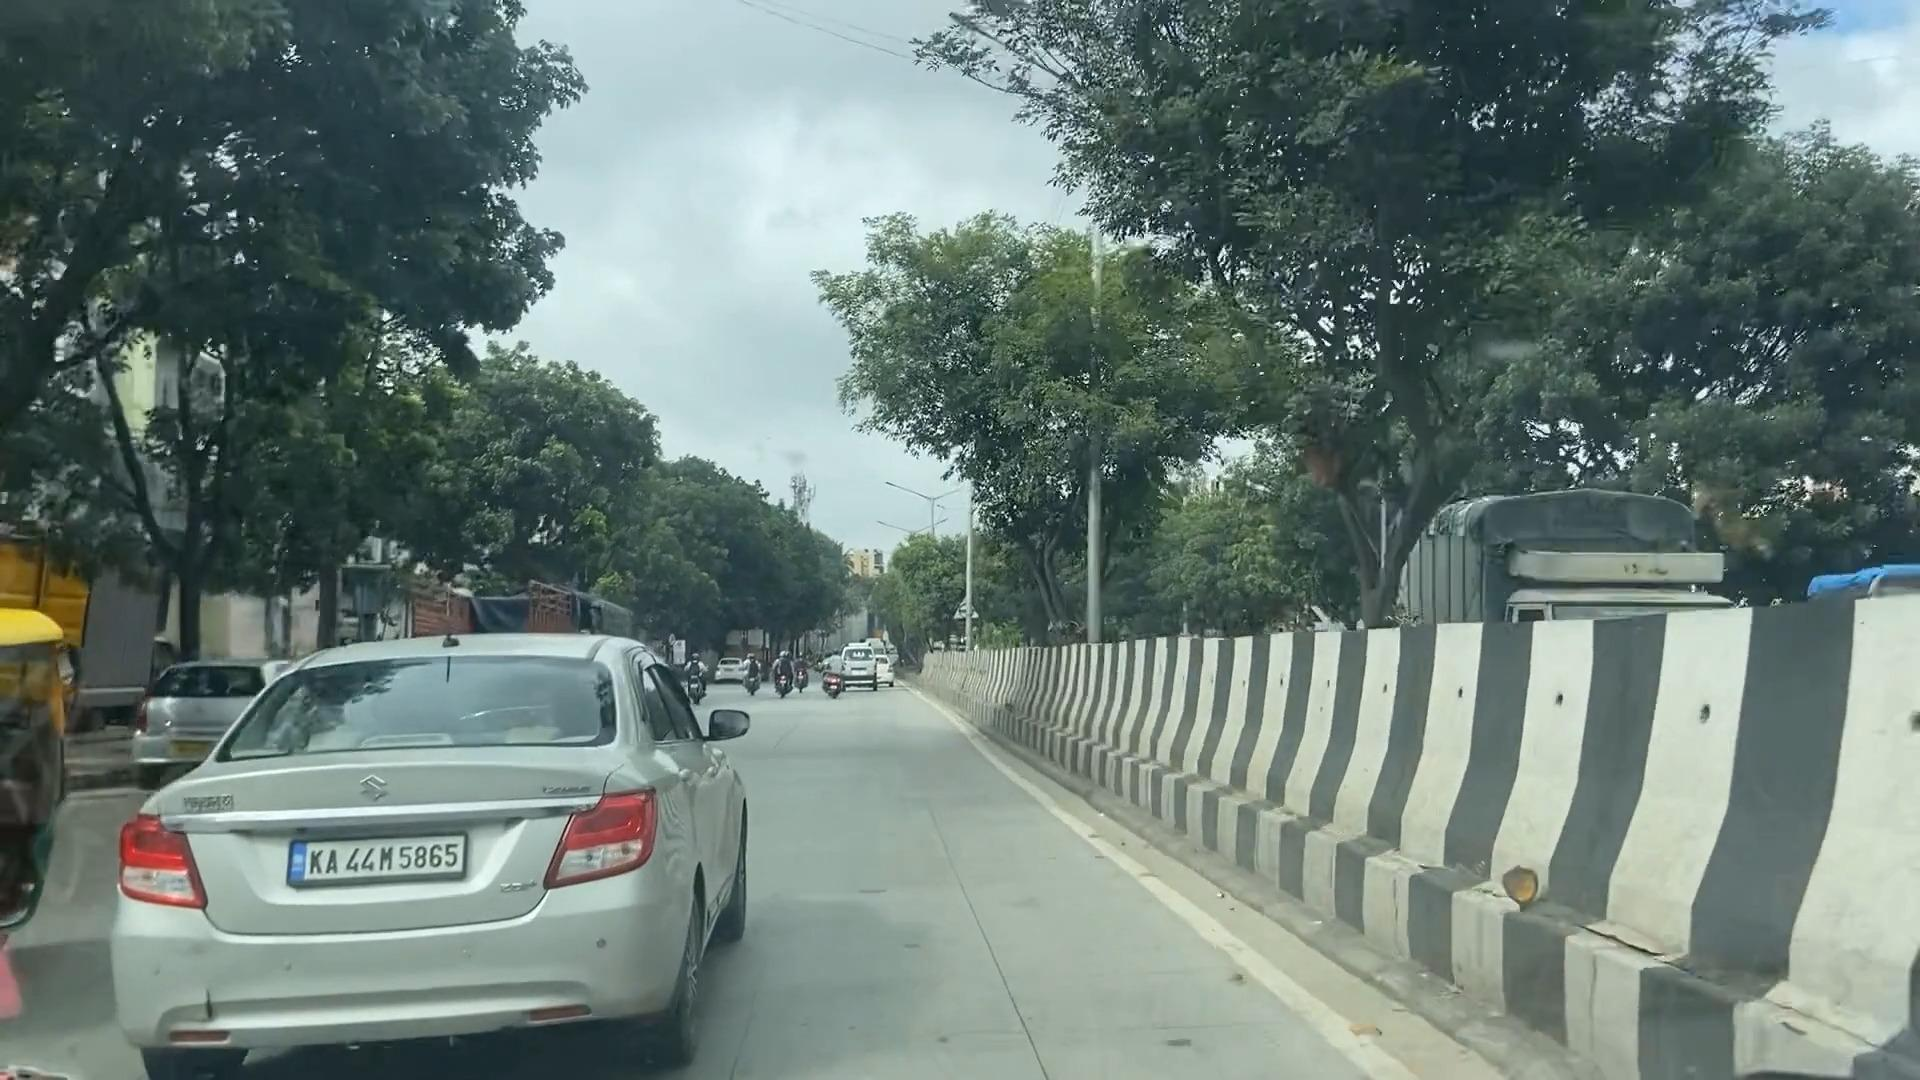LMV: (136, 653, 757, 1080)
